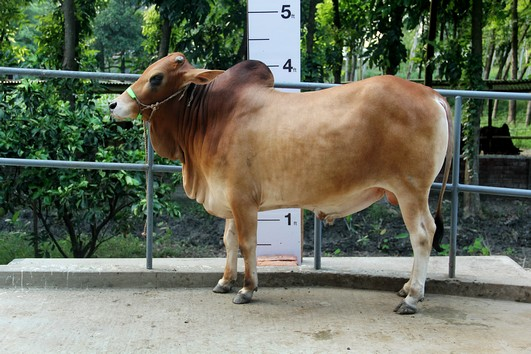cow: (99, 47, 463, 313)
